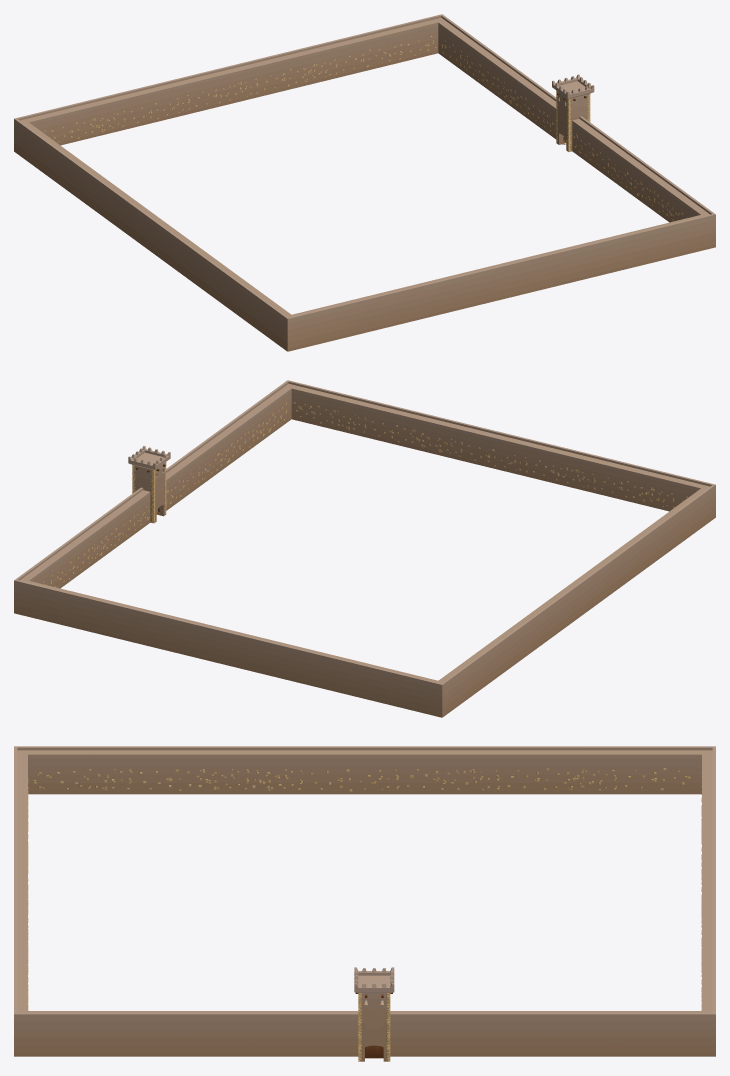
The model's file is OuterWall.fbx.
3 renders of one model, top to bottom at view 1: azimuth 30°, elevation 25°; view 2: azimuth 150°, elevation 25°; view 3: azimuth 270°, elevation 25°, orthographic. The views are drawn at different scales.
Parts seen in each view (by area): view 1: Cube; view 2: Cube; view 3: Cube.
Boxes of the visible parts, x1,y1,x2,y2 form: Cube: [14, 14, 715, 351]; Cube: [14, 380, 715, 717]; Cube: [14, 746, 715, 1061].
Bounding box in the file's own units: 22319 × 2995 × 24072.
